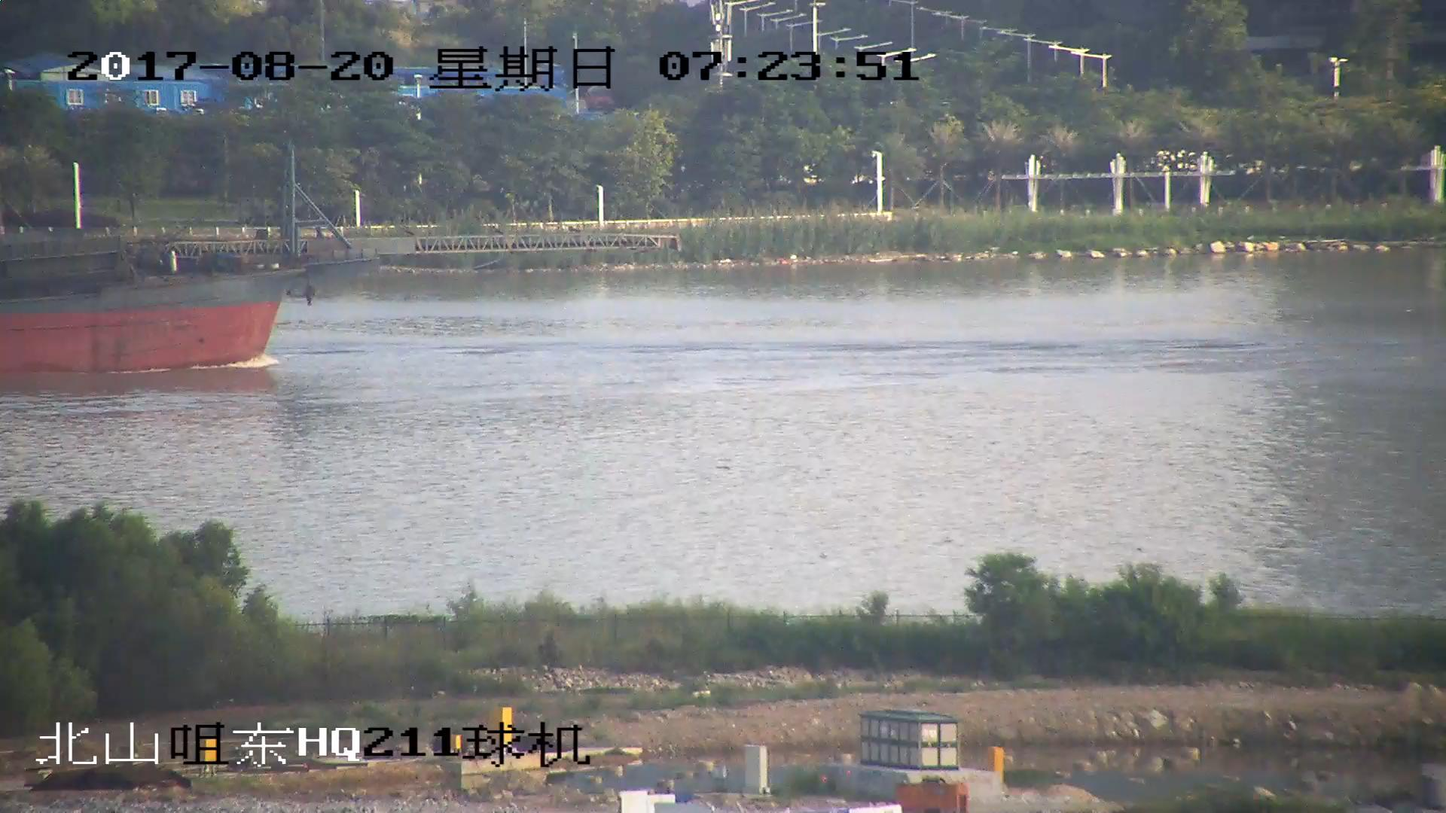bulk cargo carrier: (0, 139, 676, 378)
